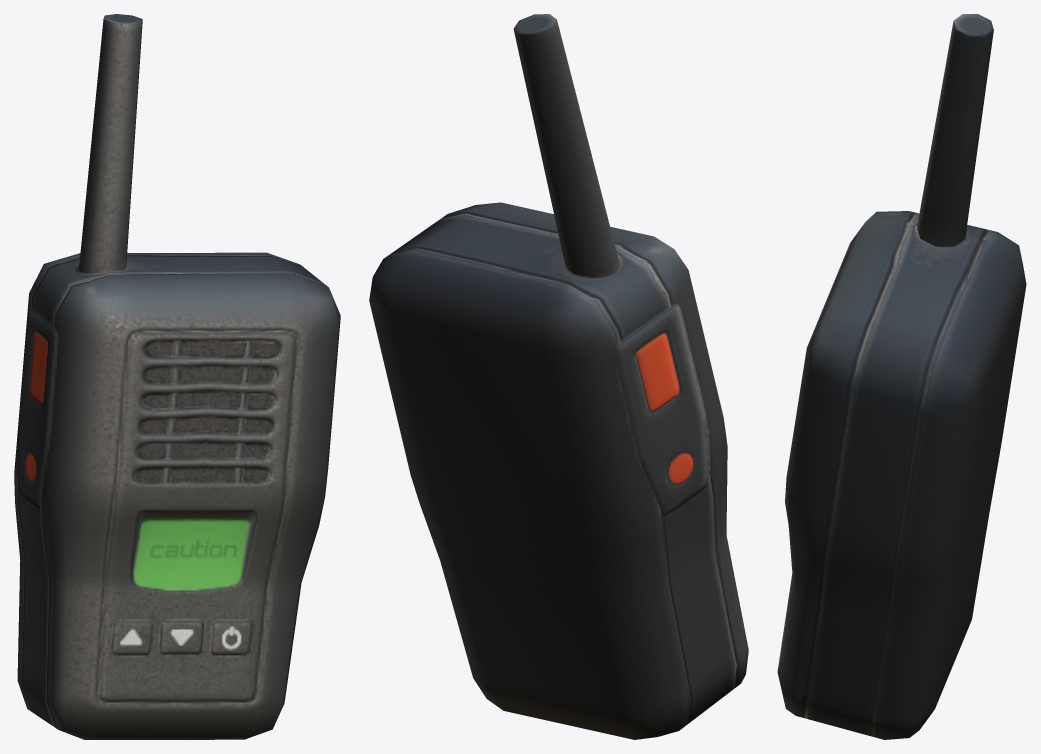
Rendered from wktk2.fbx.
3 renders of one model, left to right at view 1: azimuth 30°, elevation 25°; view 2: azimuth 150°, elevation 25°; view 3: azimuth 270°, elevation 25°, orthographic. The views are drawn at different scales.
Visible parts, largest first — view 1: Walkie2; view 2: Walkie2; view 3: Walkie2.
Part boxes in pixels (box(x1,y1,x2,y2)): Walkie2: box(14, 14, 340, 739); Walkie2: box(369, 14, 748, 739); Walkie2: box(777, 14, 1026, 739).
Size of the model in its own units: 7.12 by 15.48 by 5.08.
